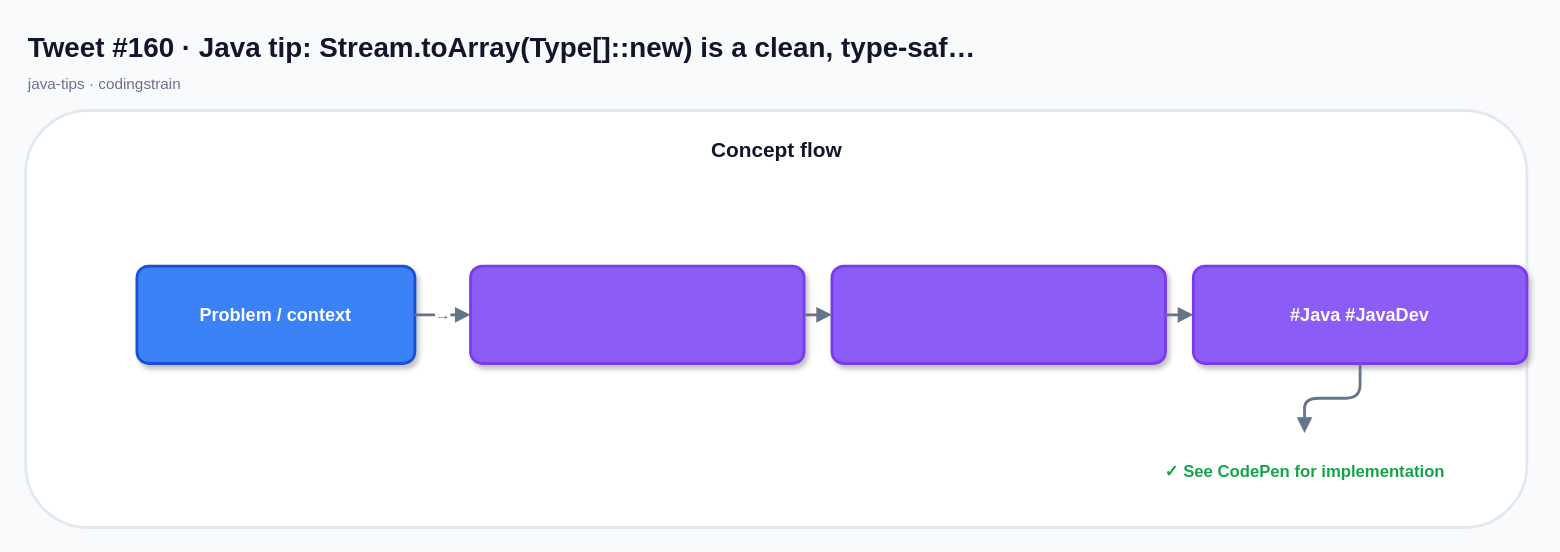
The diagram is 1560 pixels wide and 552 high, and some of its shapes have lost their labels. Here are the shapes that lost their labels. From the top down, the centre of each, then its label:
At (x=638, y=316): "💡 Java tip: Stream.toArray(Type[]::new) is a clean, type-safe way to g".
At (x=999, y=316): "Avoids Object[] and casting.".
